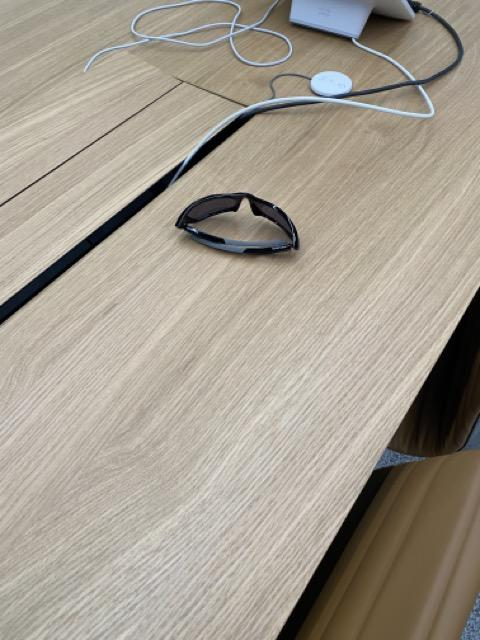Sunglasses: (175, 190, 300, 257)
